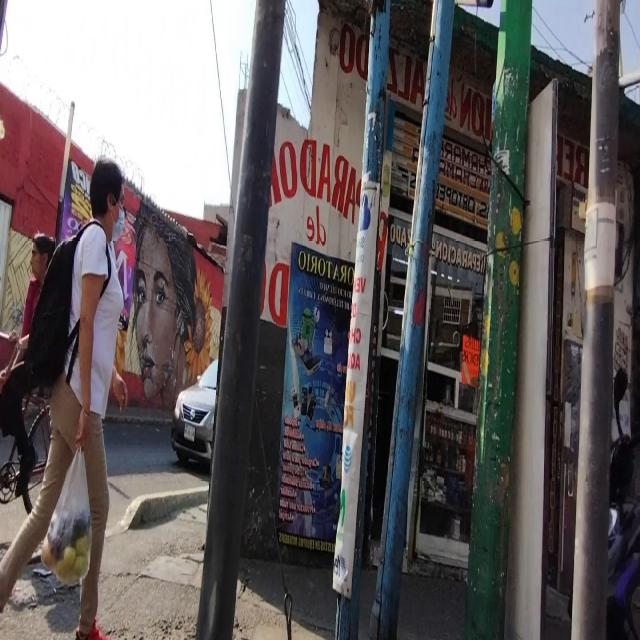adult: (0, 154, 126, 640), (0, 229, 50, 490)
